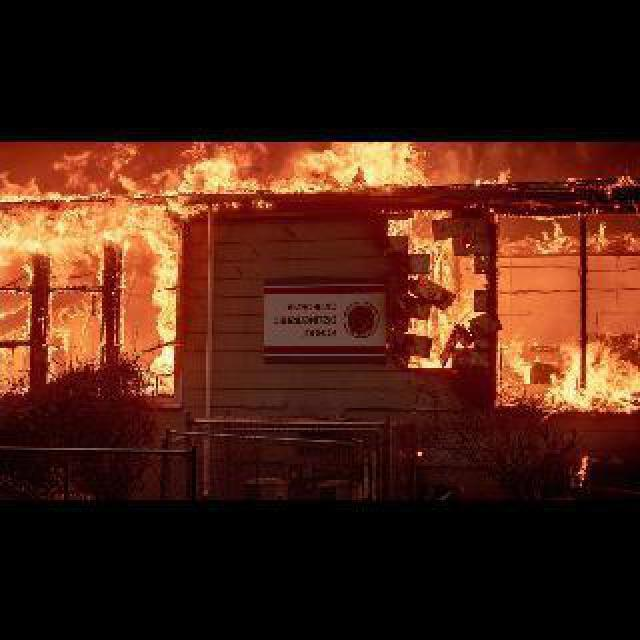Fire: (2, 140, 182, 396), (176, 140, 440, 194), (513, 328, 640, 418), (412, 234, 492, 364), (534, 208, 636, 266), (600, 162, 638, 200), (474, 156, 518, 188), (570, 448, 596, 490)
